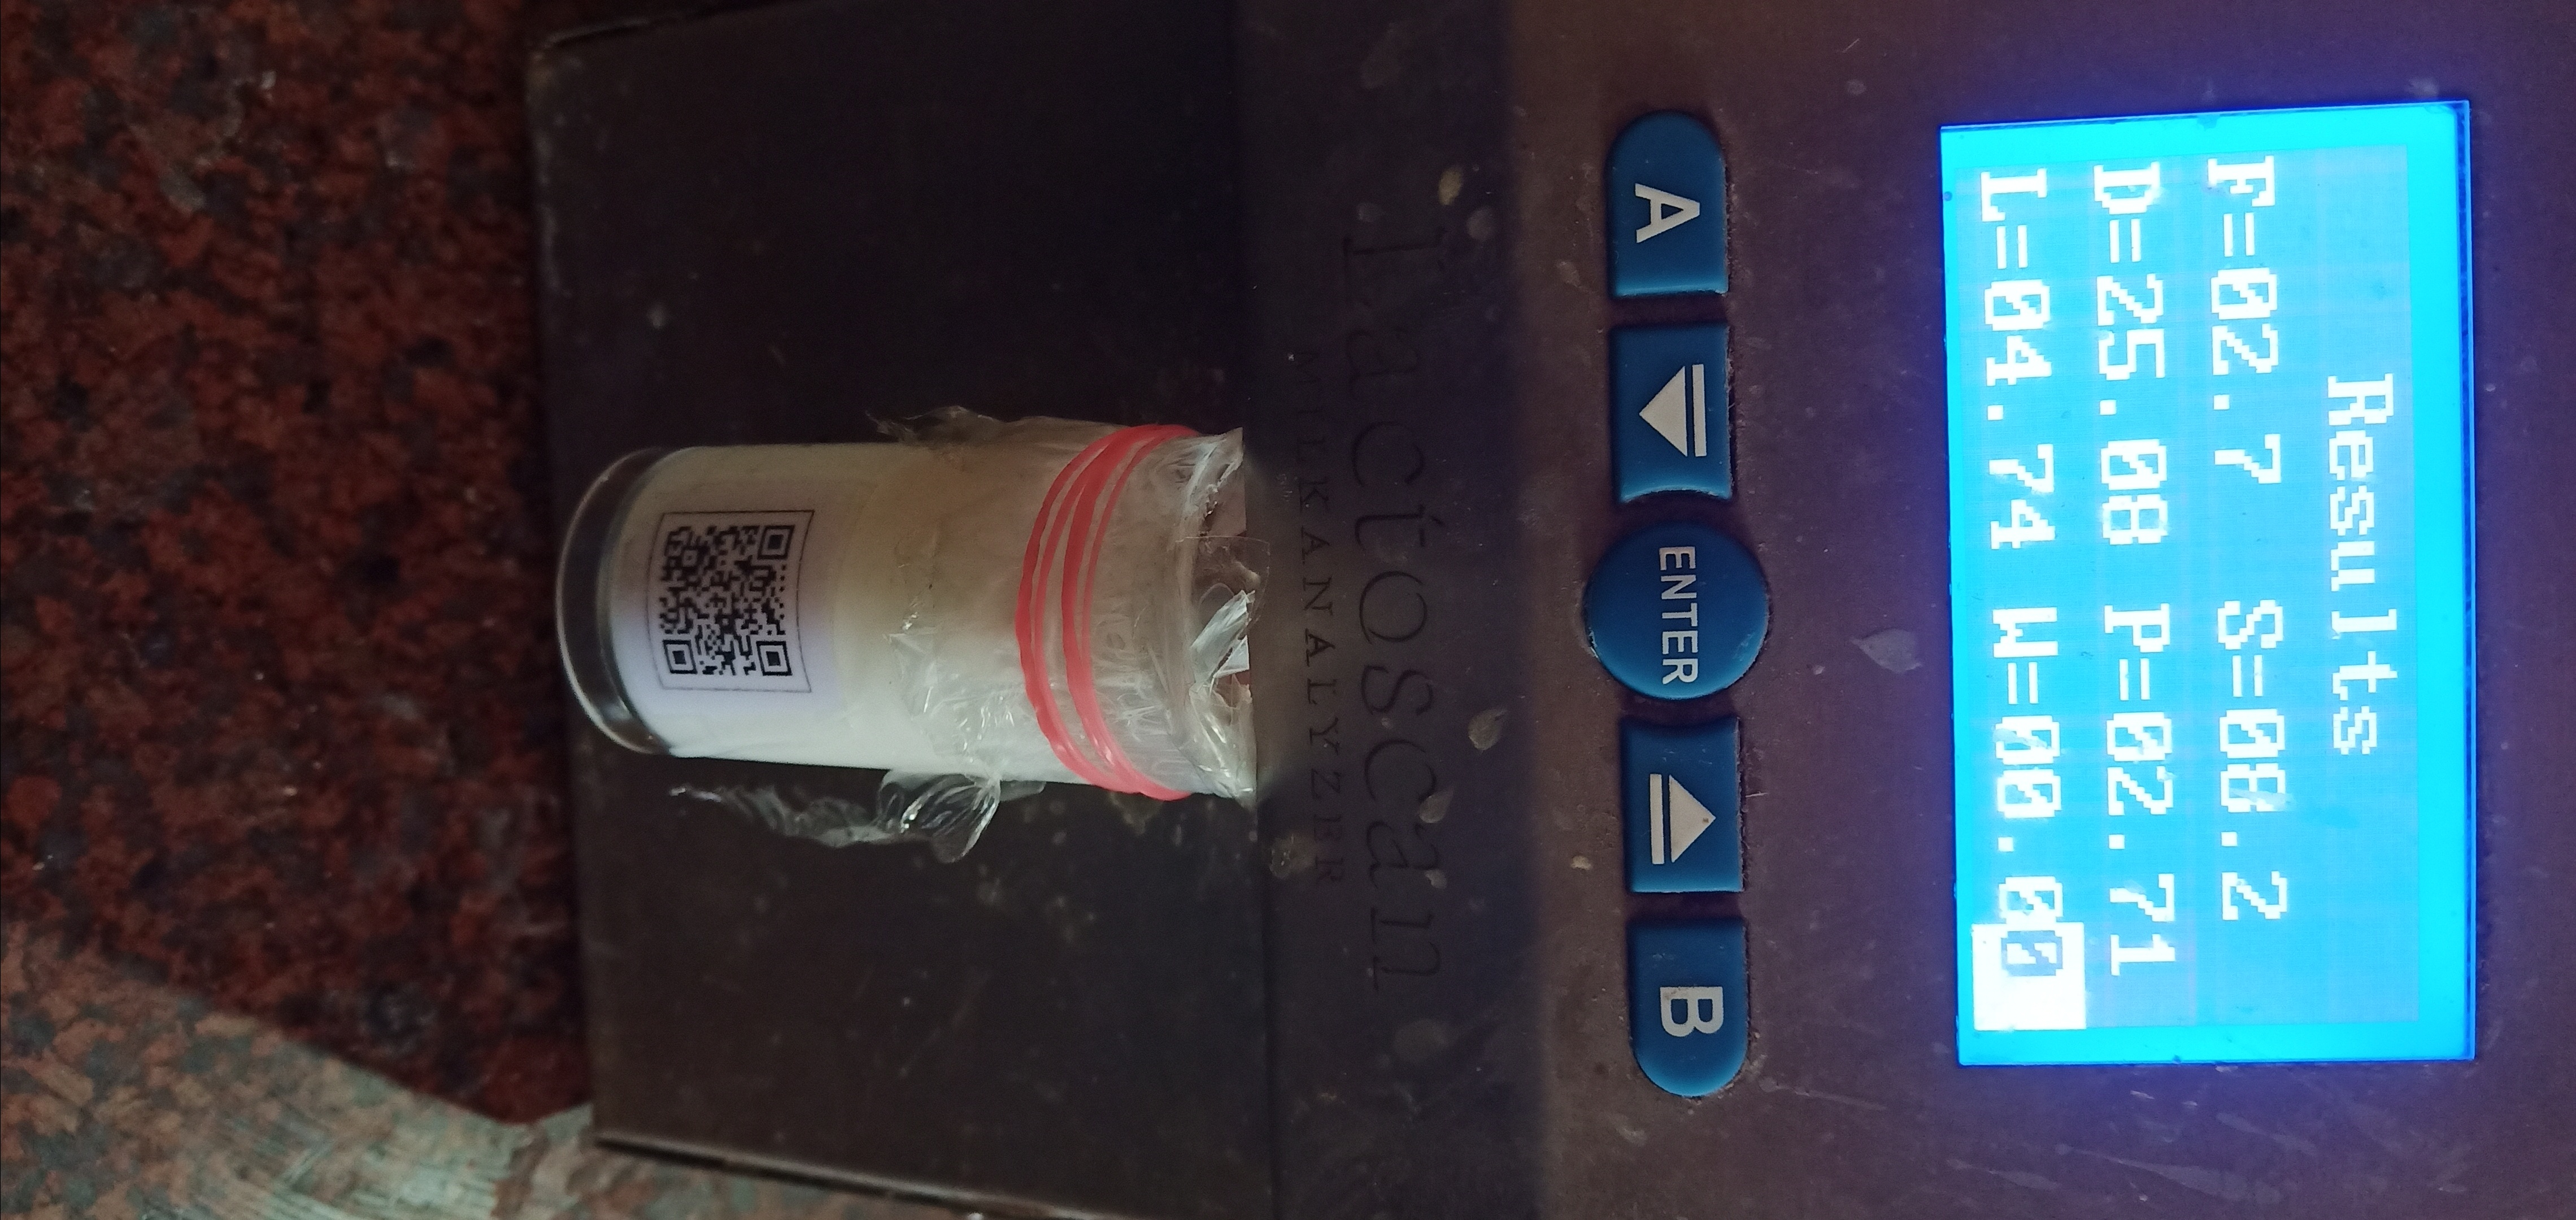lcd: (1902, 57, 2505, 1108)
qr: (624, 499, 816, 708)
